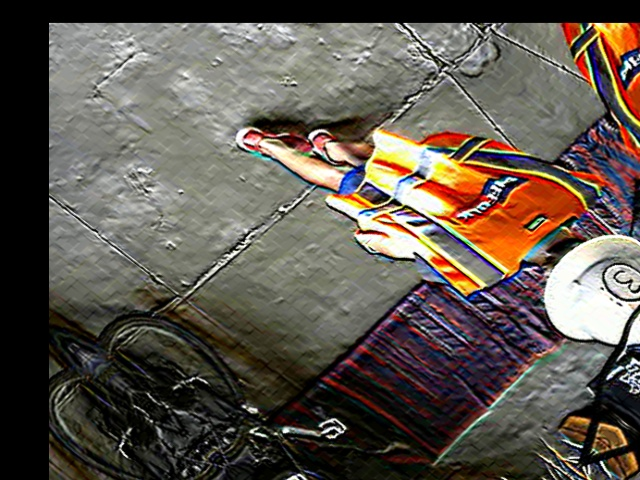three: (592, 257, 639, 310)
